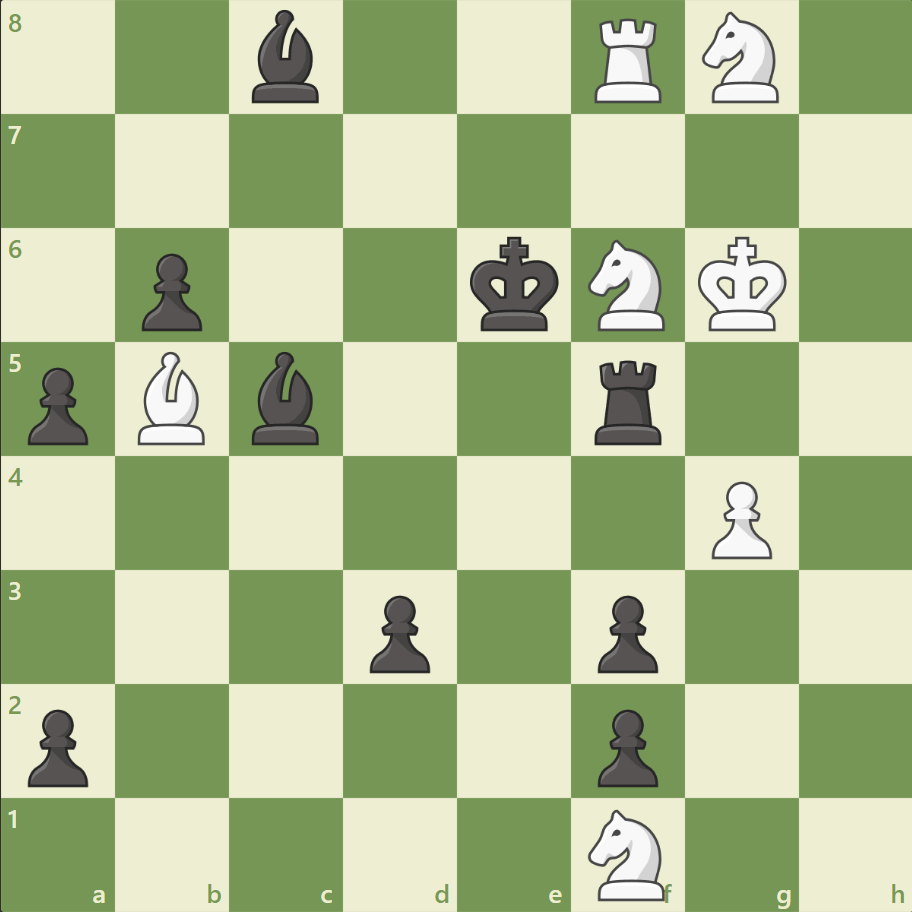B: (131, 347, 215, 449)
K: (692, 231, 792, 339)
N: (692, 7, 789, 110), (579, 234, 676, 337), (579, 802, 676, 904)
P: (701, 473, 776, 564)
R: (587, 12, 670, 109)
b: (244, 6, 328, 109), (244, 347, 328, 449)
k: (465, 231, 565, 339)
p: (133, 246, 208, 337), (20, 359, 95, 450), (20, 700, 95, 791), (361, 586, 435, 677), (588, 586, 662, 677), (588, 700, 662, 791)
r: (587, 352, 670, 449)
